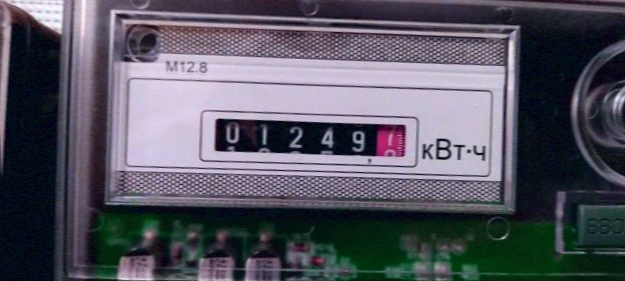0: (222, 117, 240, 144)
1: (254, 119, 269, 145)
2: (284, 123, 302, 150)
4: (317, 122, 334, 148)
7: (381, 120, 397, 147)
9: (346, 126, 365, 153)
screen: (194, 96, 421, 180)
